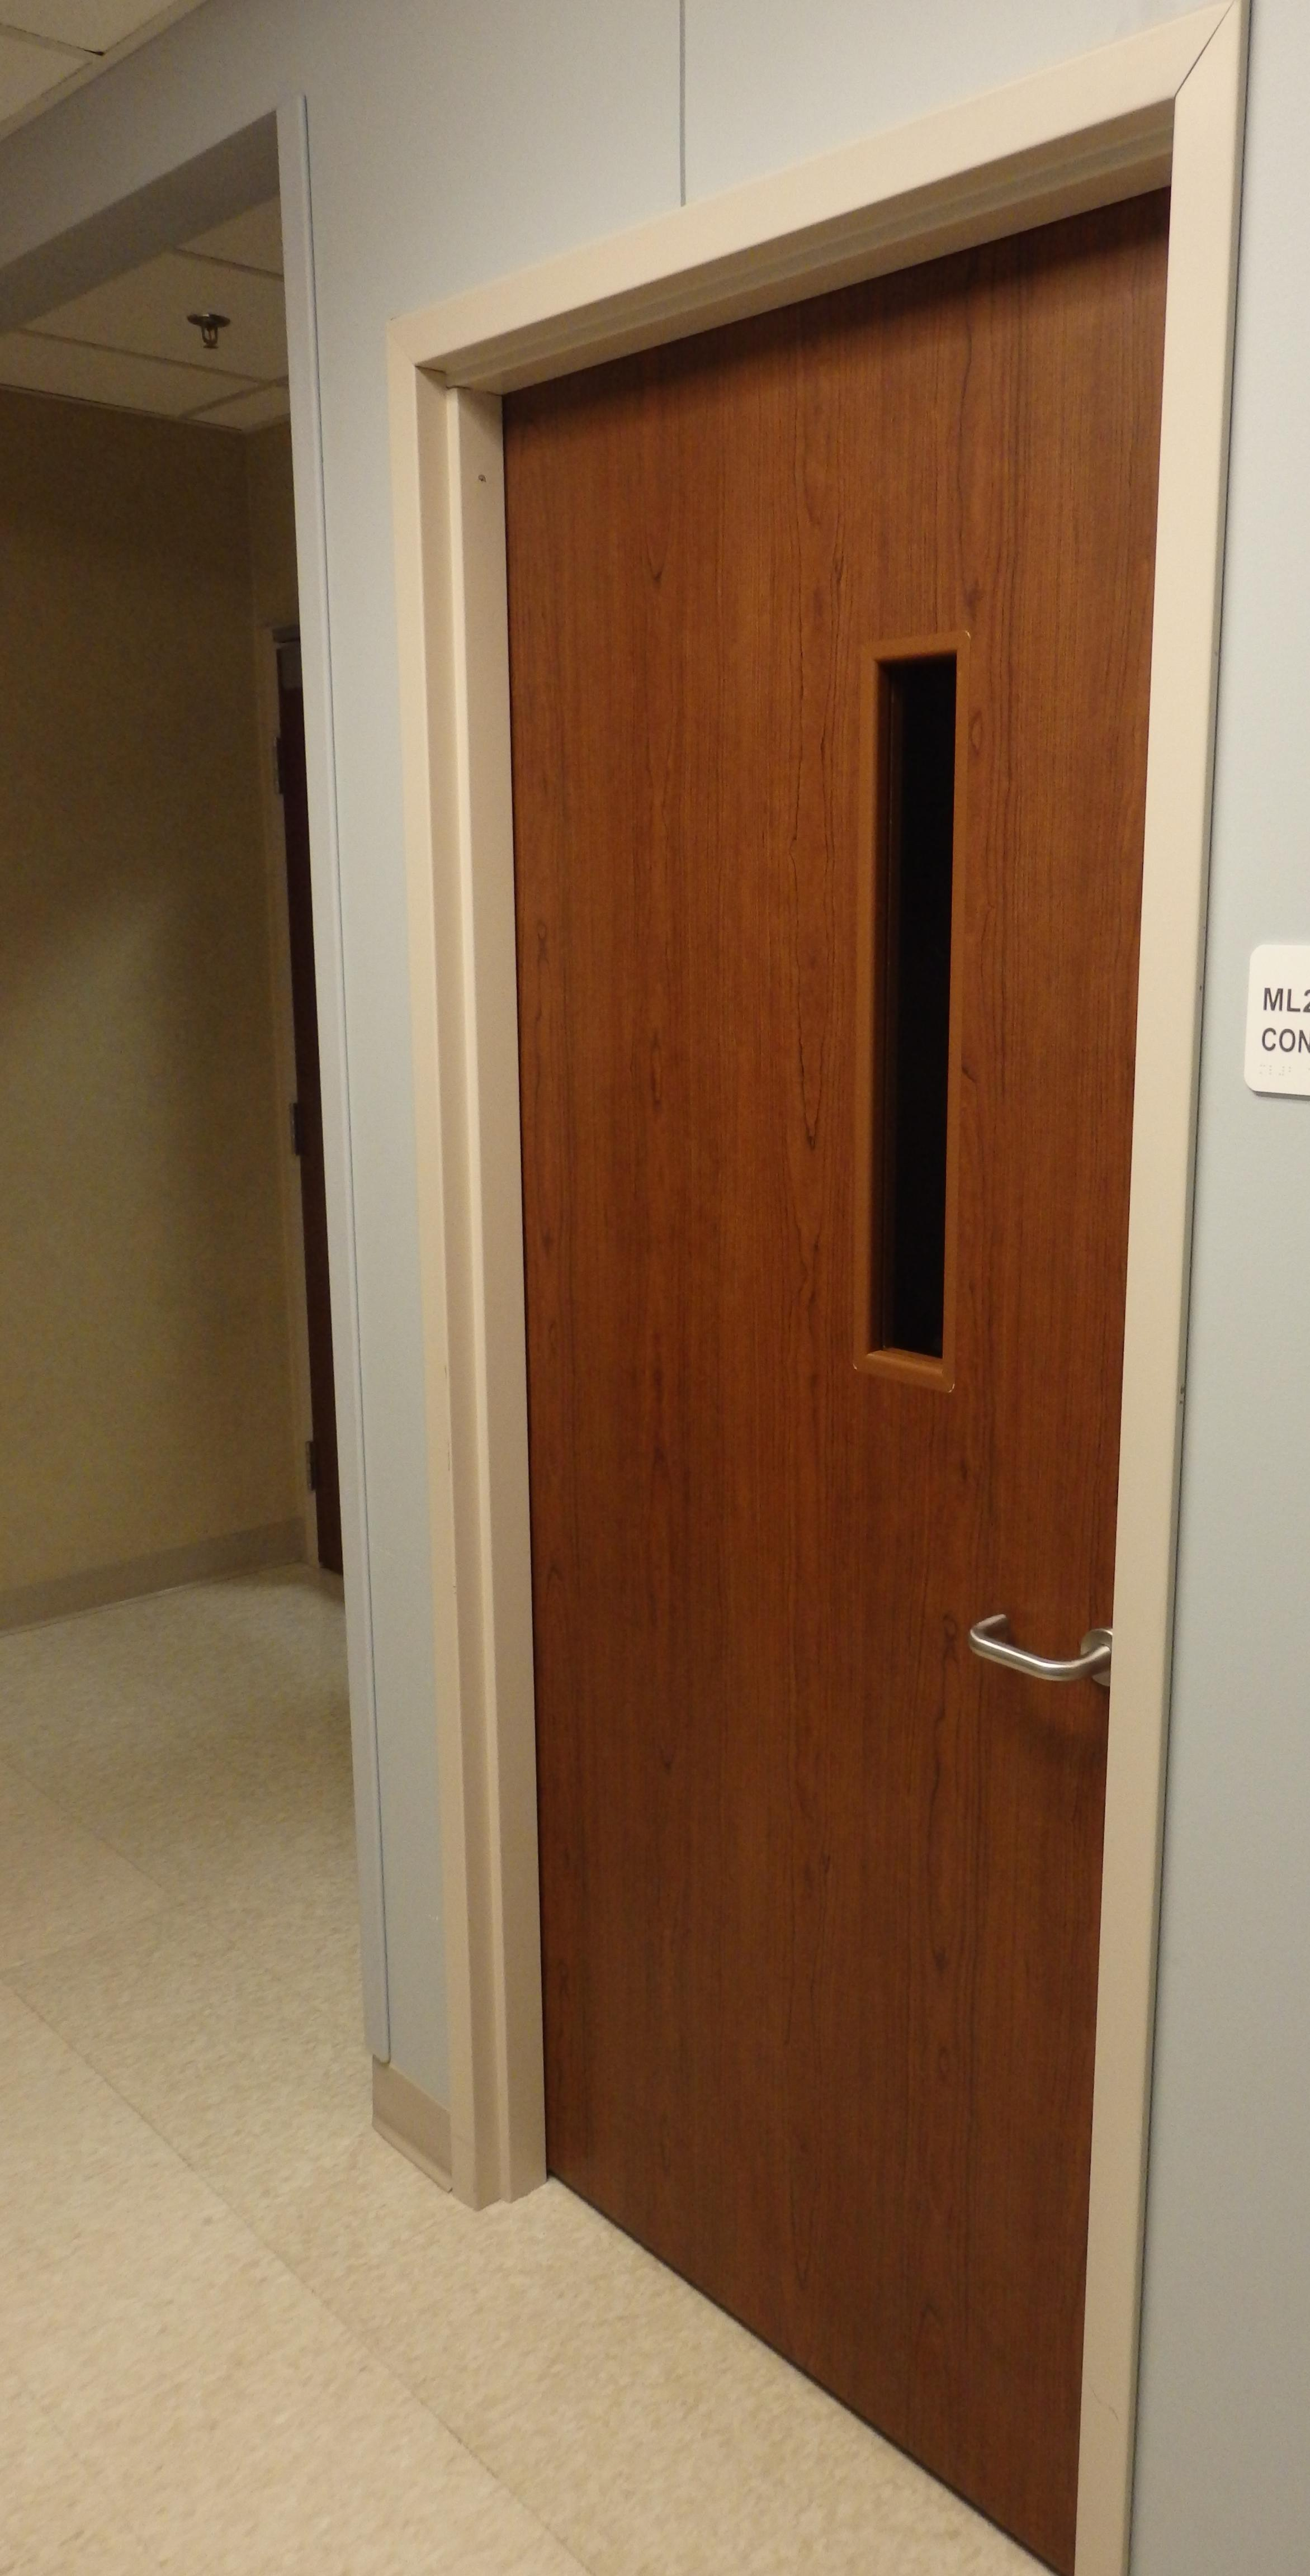door: (386, 2, 1240, 2576)
